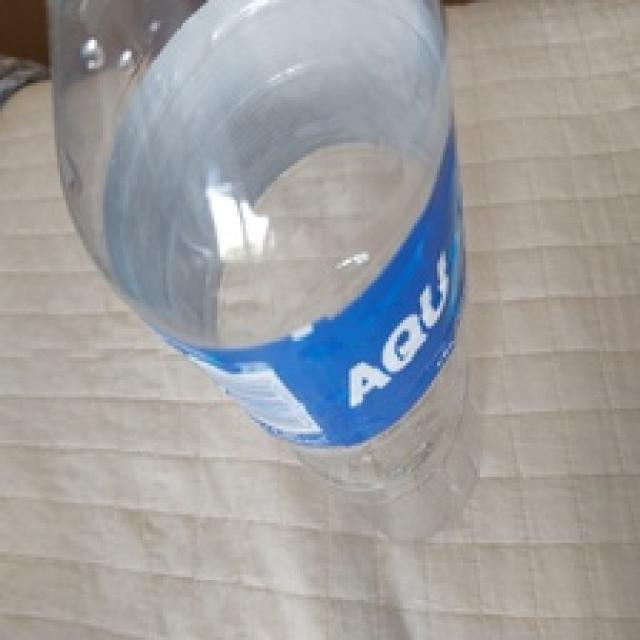Plastic: (47, 0, 480, 541)
